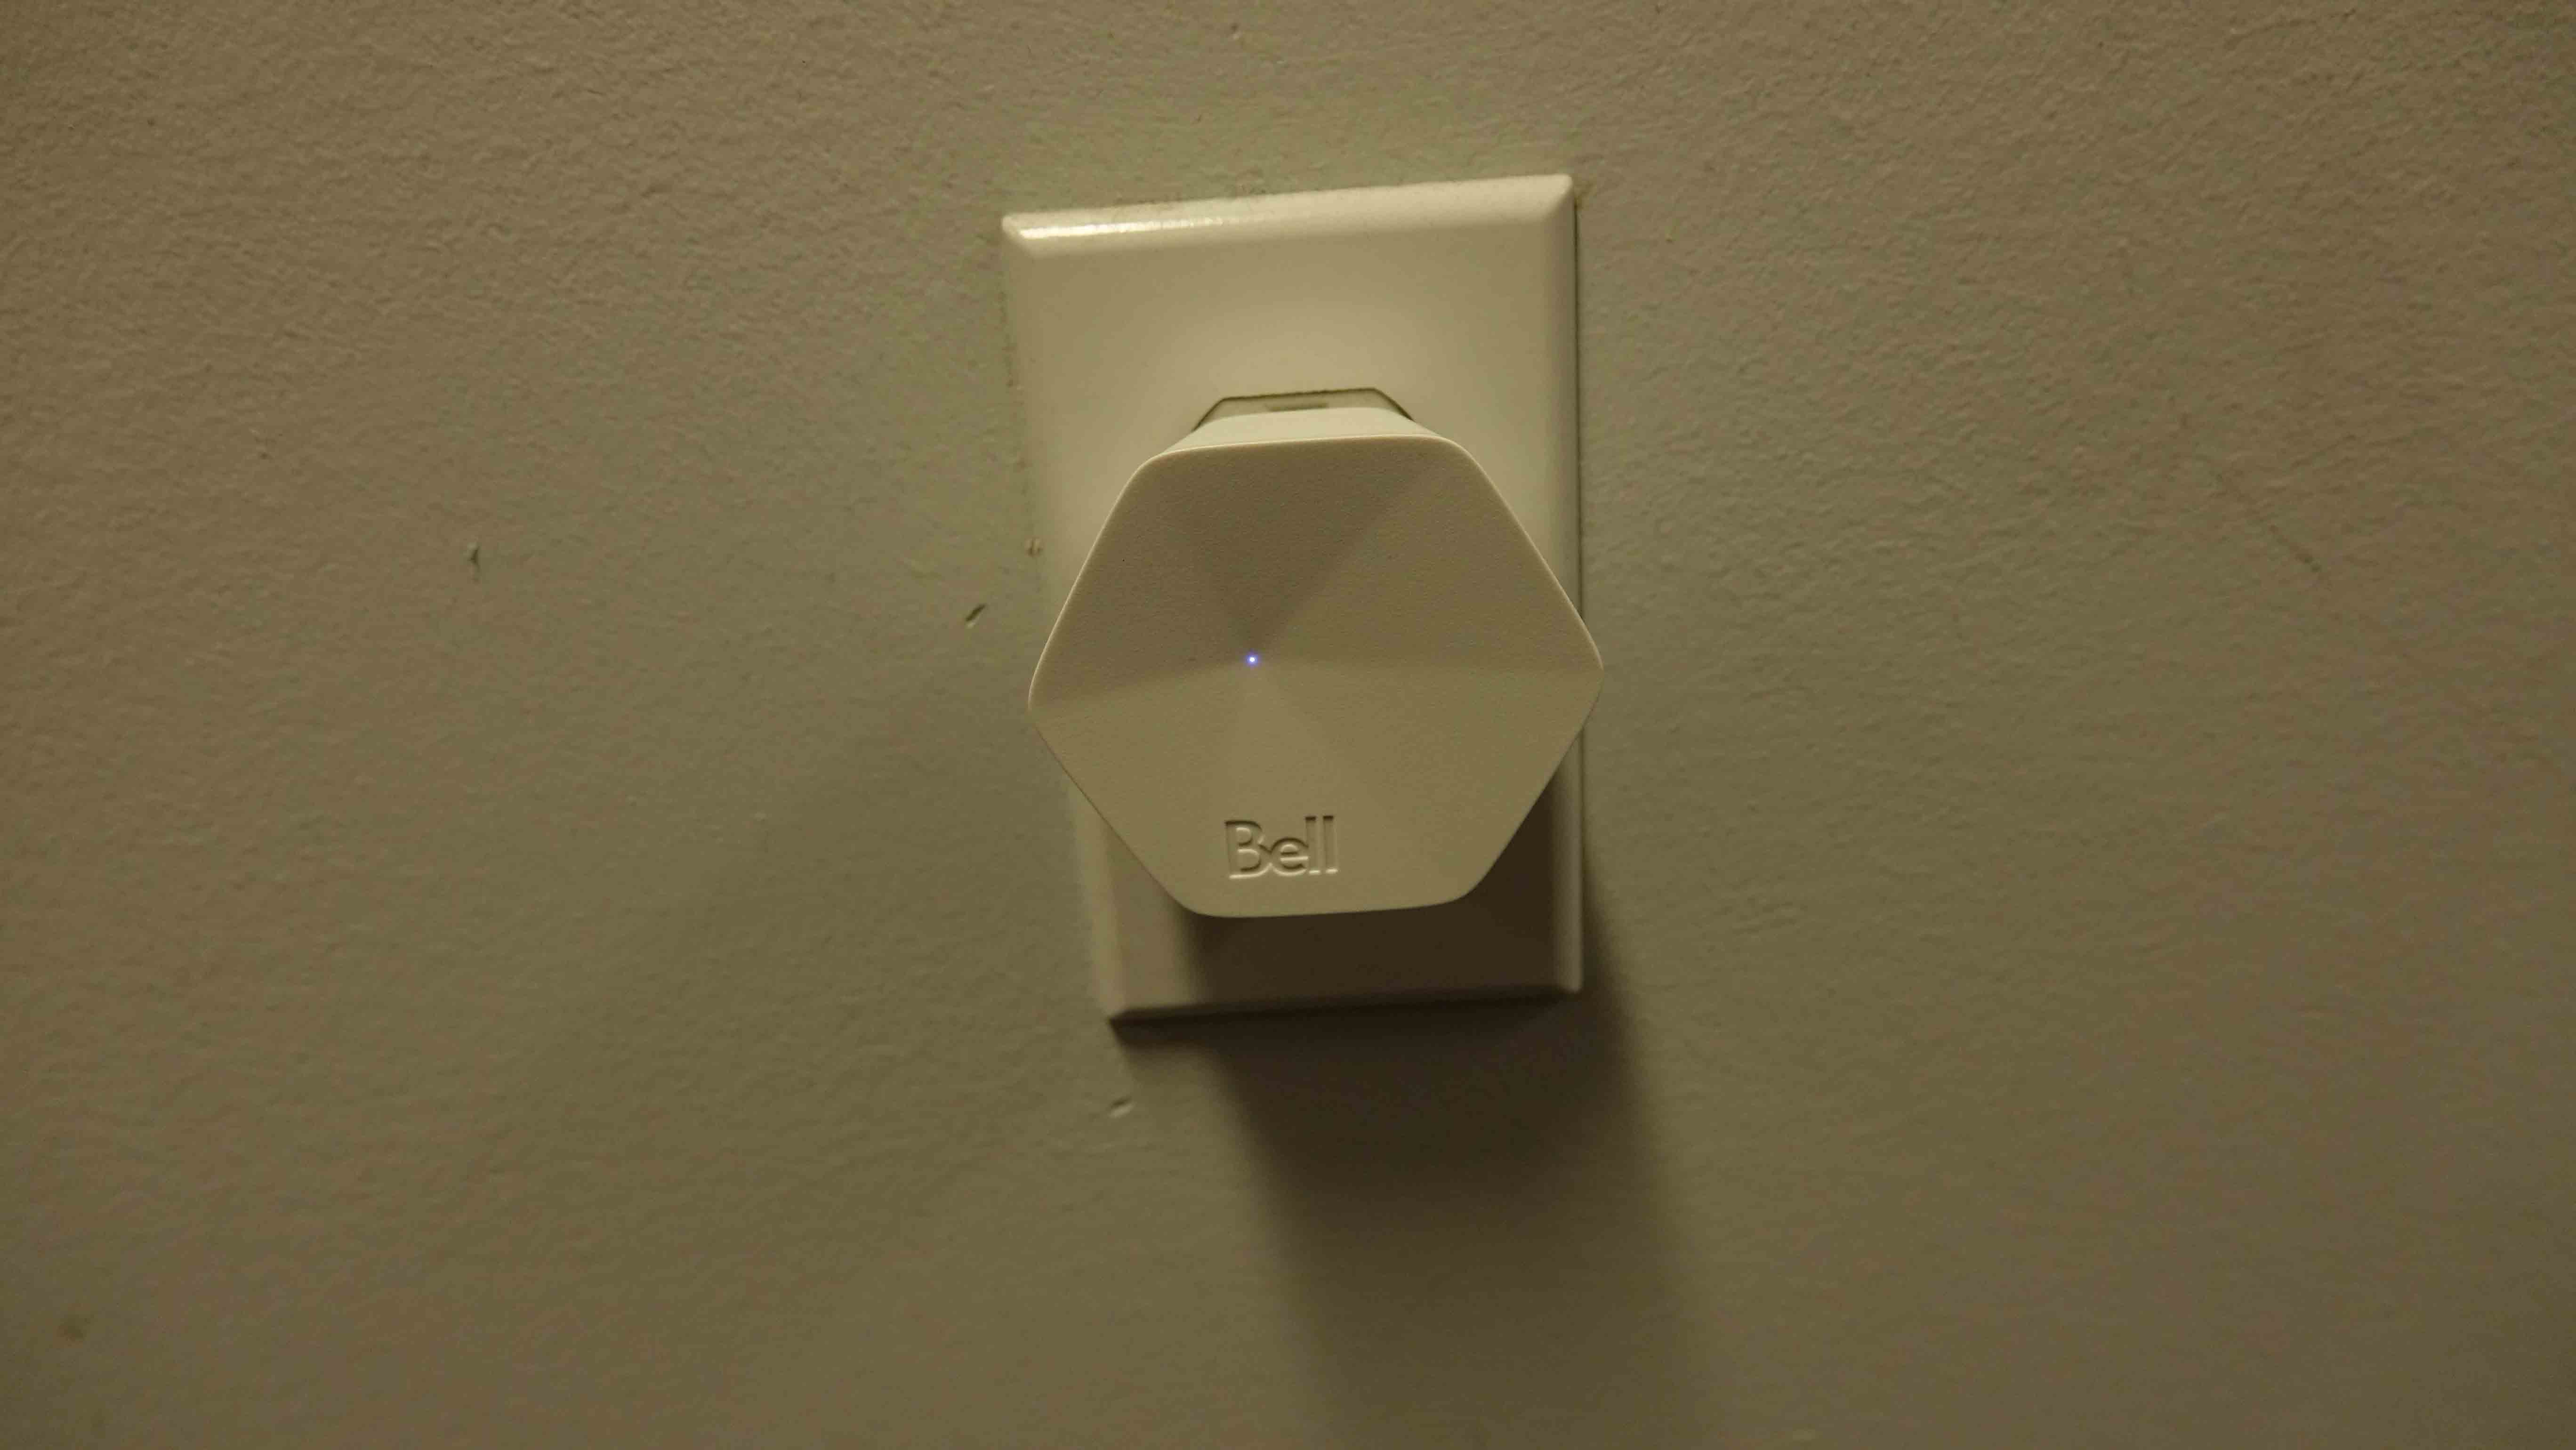pod: (1005, 400, 1622, 934)
